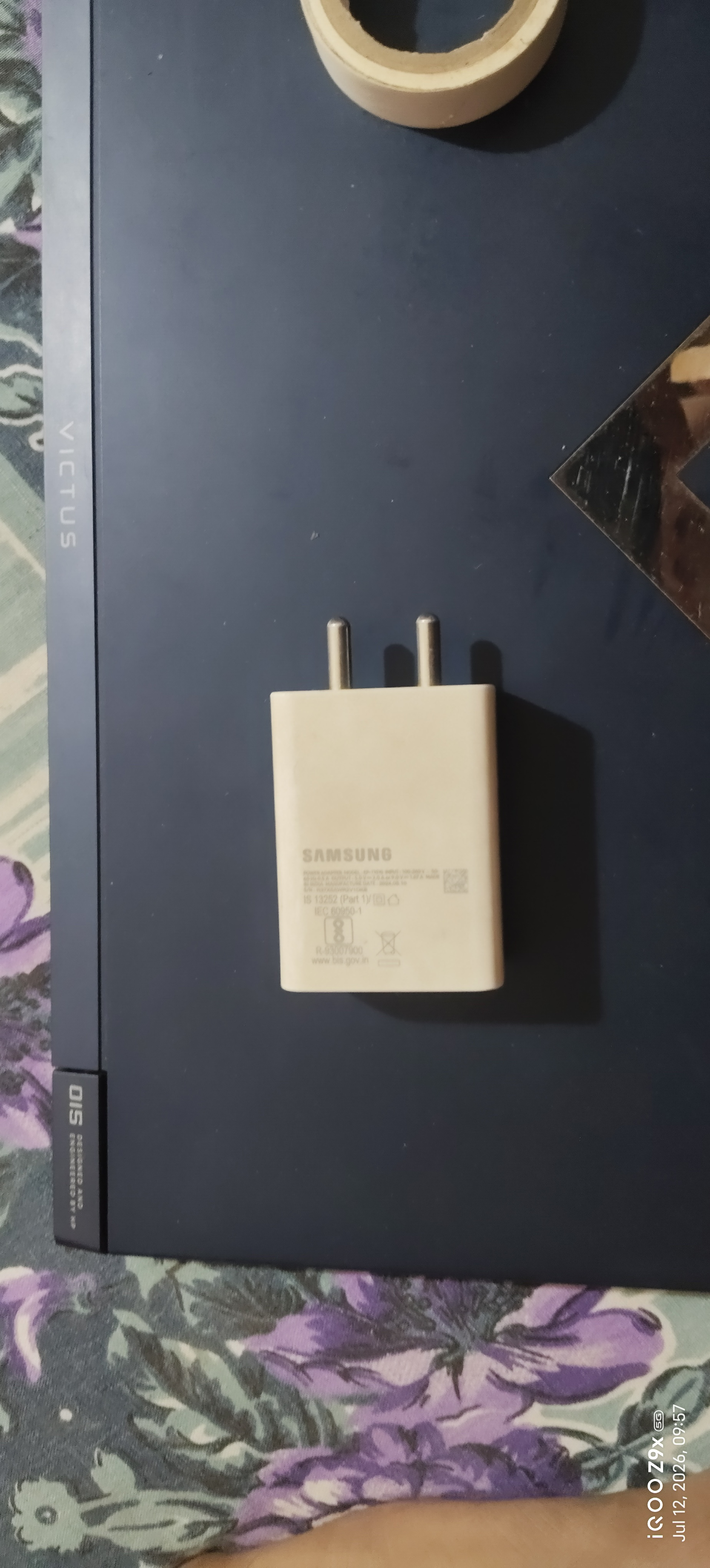charger: (217, 585, 582, 1058)
tape_roll: (264, 0, 622, 168)
